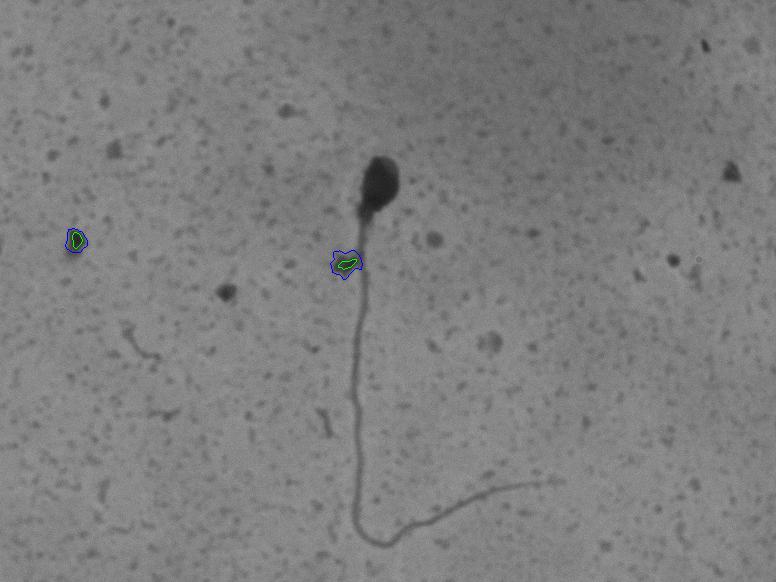Abnormal: (287, 110, 560, 559)
